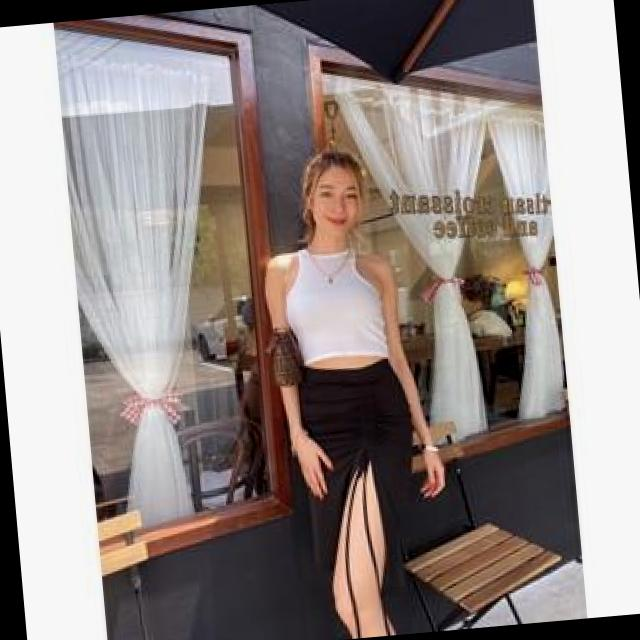skirt: (286, 355, 465, 640)
